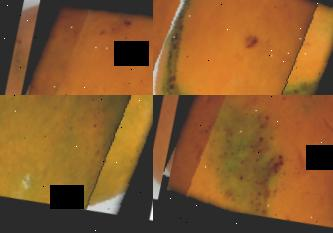PartiallyRipe: (0, 95, 153, 231)
Ripe: (163, 95, 333, 233), (153, 0, 333, 95), (17, 0, 153, 95)
